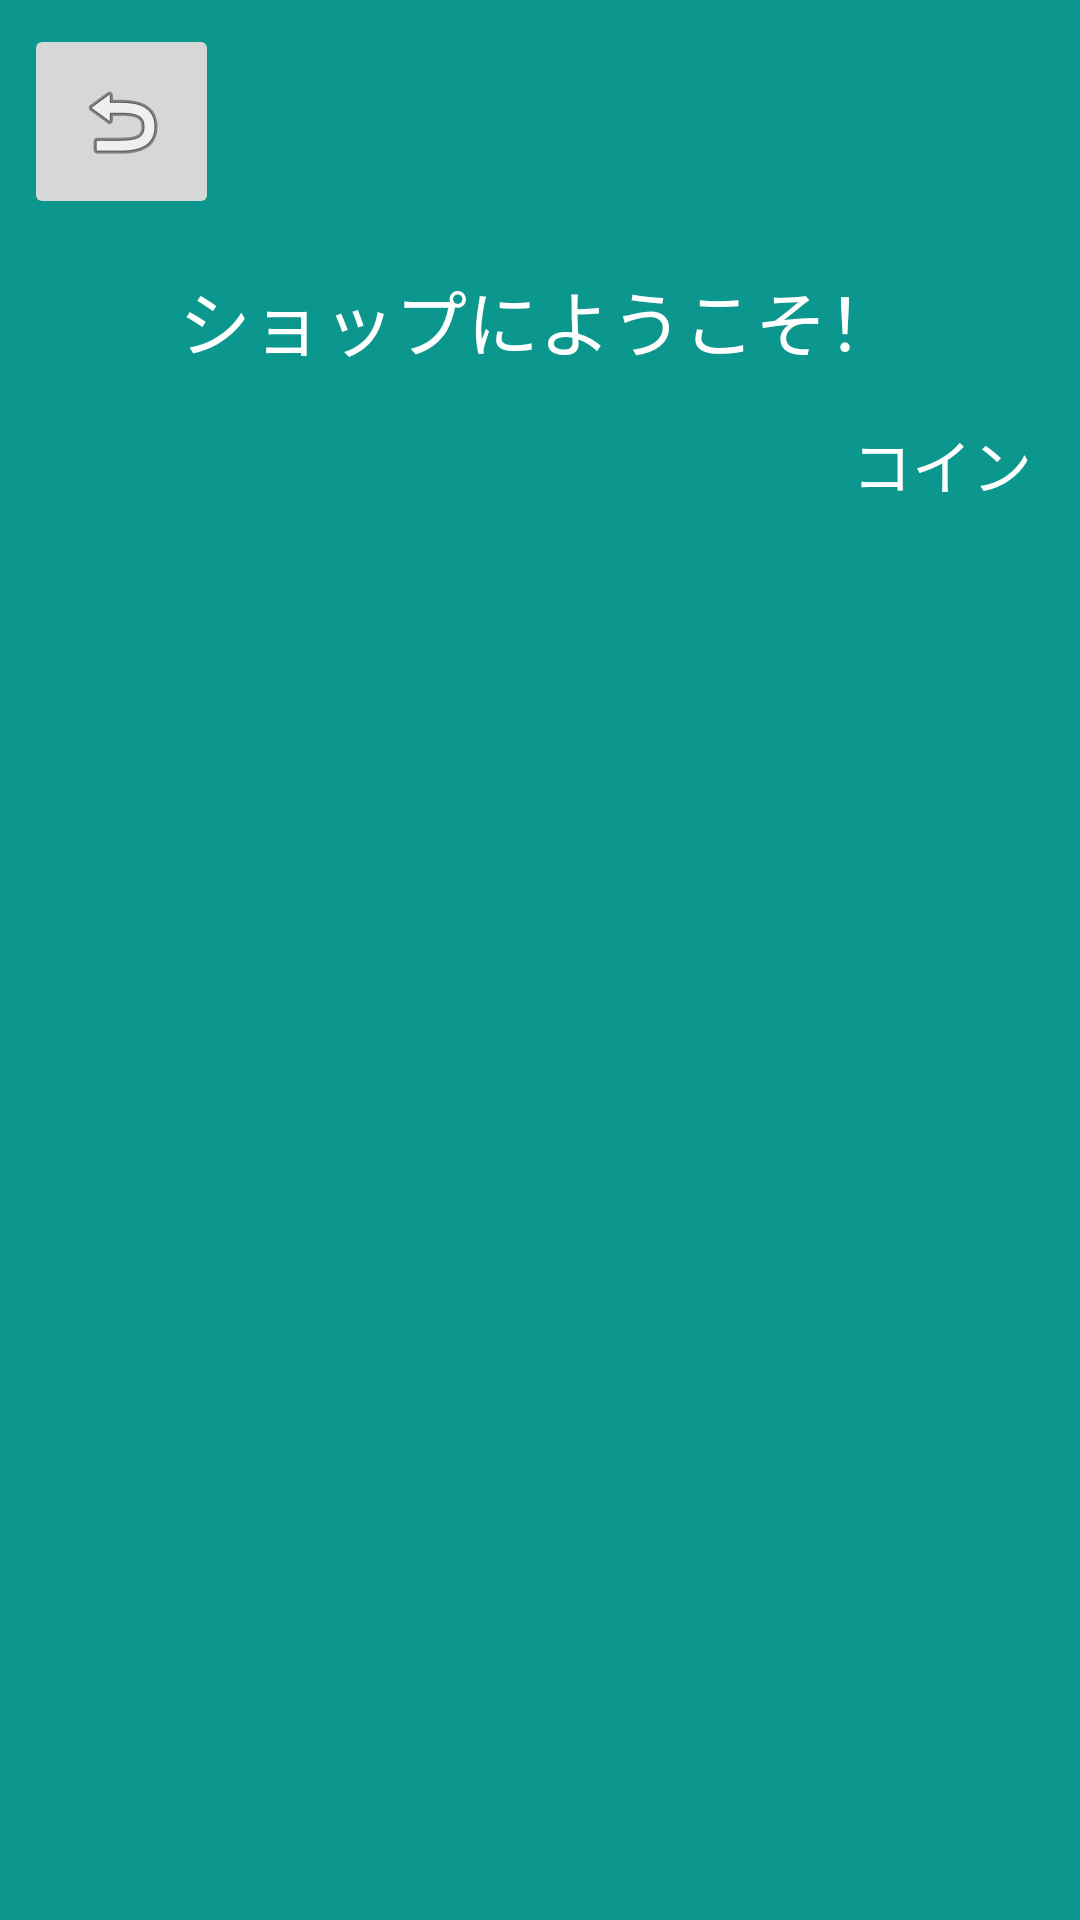

Icon bounding boxes for this 1080*1920 phone screenshot, format (x1, y1, x2, y2):
revert: (36, 42, 207, 201)
